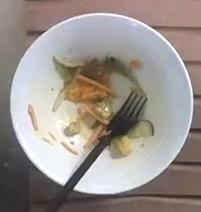fruit: (110, 119, 152, 155)
salad: (28, 56, 154, 158)
